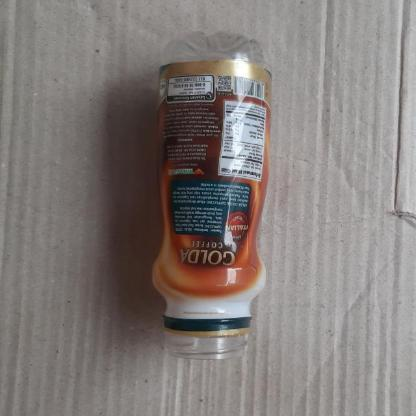Plastic Bottle: (115, 18, 292, 378)
